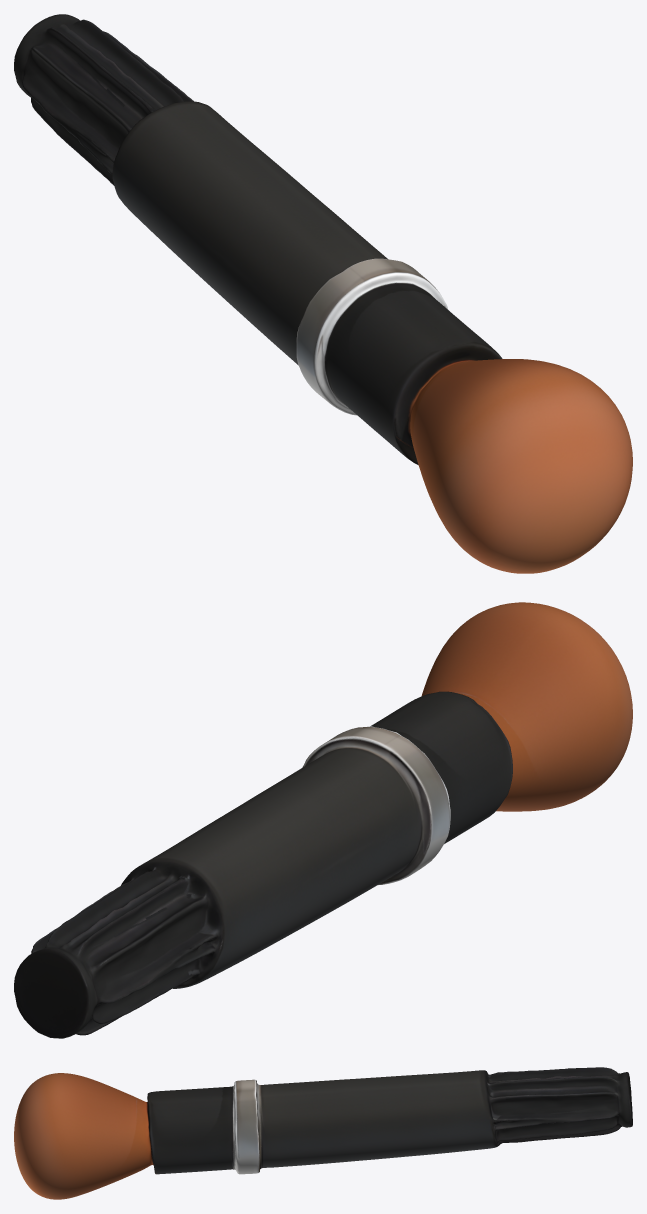
Rendered from MakeUpBrush.fbx.
The picture shows the model from 3 angles, top to bottom: view 1: azimuth 30°, elevation 25°; view 2: azimuth 150°, elevation 25°; view 3: azimuth 270°, elevation 25°; orthographic projection. The views are drawn at different scales.
Visible parts, largest first — view 1: Make Up Brush; view 2: Make Up Brush; view 3: Make Up Brush.
Boxes of the visible parts, box(x1,y1,x2,y2) form: Make Up Brush: box(14, 14, 632, 573); Make Up Brush: box(14, 602, 632, 1038); Make Up Brush: box(14, 1067, 632, 1199).
Size of the model in its own units: 10.42 by 11.2 by 51.62.
